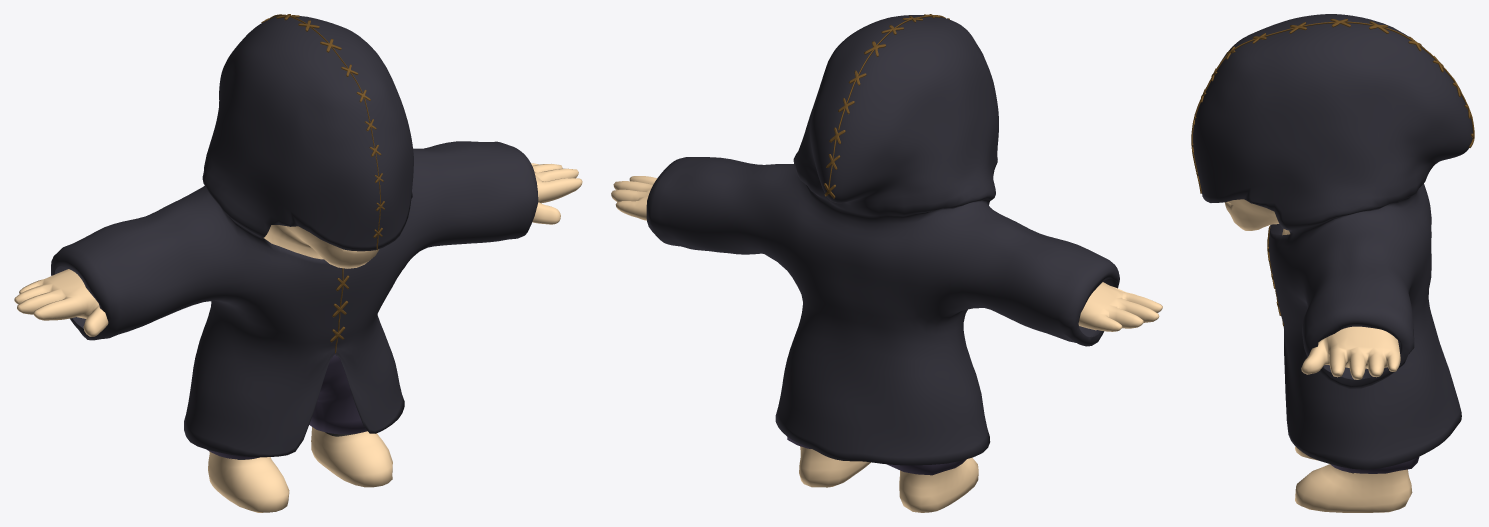
File: 6 Common vilager final 002.fbx
3 views of the same model, side by side, from view 1: azimuth 30°, elevation 25°; view 2: azimuth 150°, elevation 25°; view 3: azimuth 270°, elevation 25° (orthographic). The views are drawn at different scales.
Visible parts, largest first — view 1: X; view 2: X; view 3: X.
Boxes of the visible parts, box(x1,y1,x2,y2) form: X: box(14, 14, 582, 512); X: box(611, 14, 1162, 512); X: box(1191, 14, 1474, 512).
Size of the model in its own units: 299 by 236 by 132.
